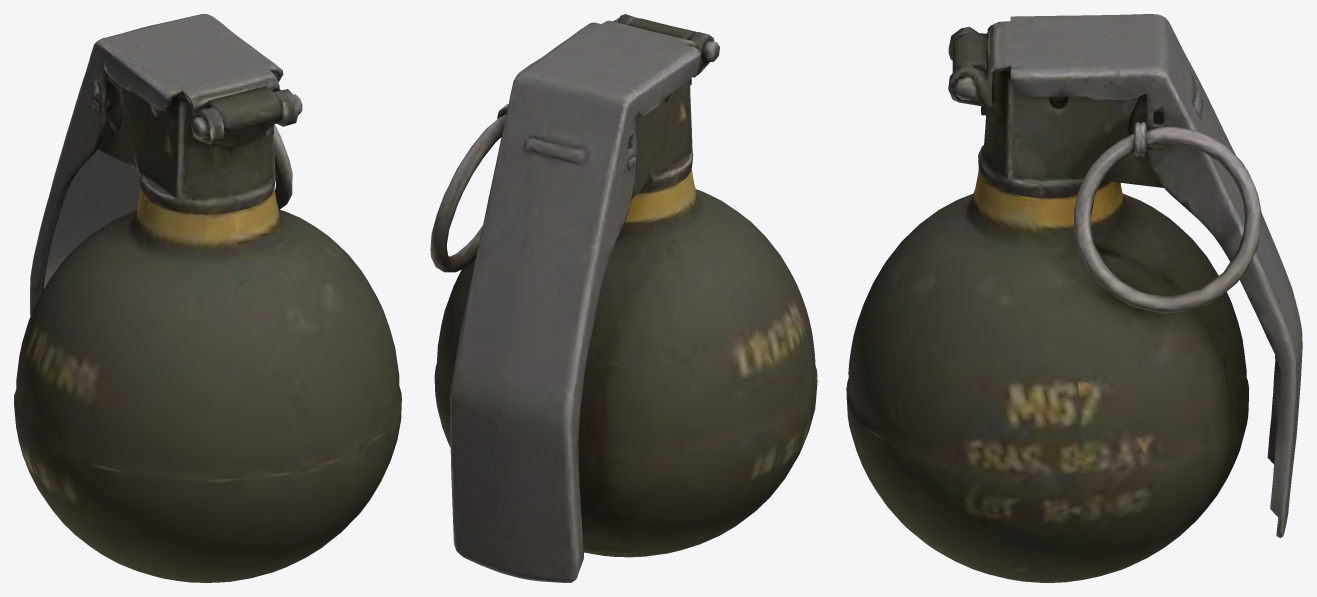
Rendered from frag_grenade.glb.
The picture shows the model from 3 angles, left to right: view 1: azimuth 30°, elevation 25°; view 2: azimuth 150°, elevation 25°; view 3: azimuth 270°, elevation 25°; orthographic projection. The views are drawn at different scales.
Parts seen in each view (by area): view 1: tripo_node_b812bdfc-1c9a-4d72-907e-3b3517be94fa; view 2: tripo_node_b812bdfc-1c9a-4d72-907e-3b3517be94fa; view 3: tripo_node_b812bdfc-1c9a-4d72-907e-3b3517be94fa.
Boxes of the visible parts, left/top/right/bottom form: tripo_node_b812bdfc-1c9a-4d72-907e-3b3517be94fa: left=14, top=14, right=401, bottom=582; tripo_node_b812bdfc-1c9a-4d72-907e-3b3517be94fa: left=430, top=14, right=817, bottom=582; tripo_node_b812bdfc-1c9a-4d72-907e-3b3517be94fa: left=846, top=14, right=1302, bottom=582.
Size of the model in its own units: 0.6996 by 0.9808 by 0.7832.
1 material, 1 textured.
